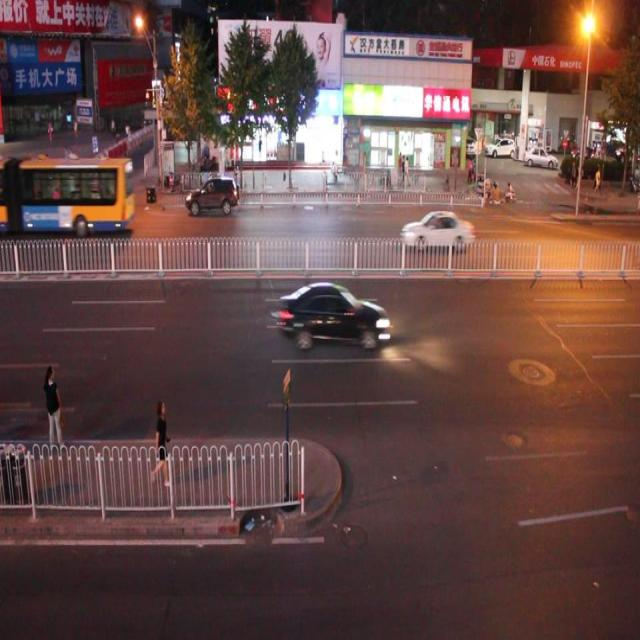car: (278, 279, 388, 348), (400, 208, 474, 254), (185, 172, 240, 222), (36, 190, 91, 228)
van: (1, 155, 135, 230)
